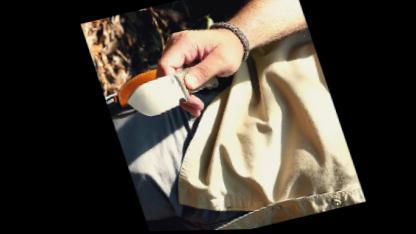knife: (104, 39, 222, 134)
